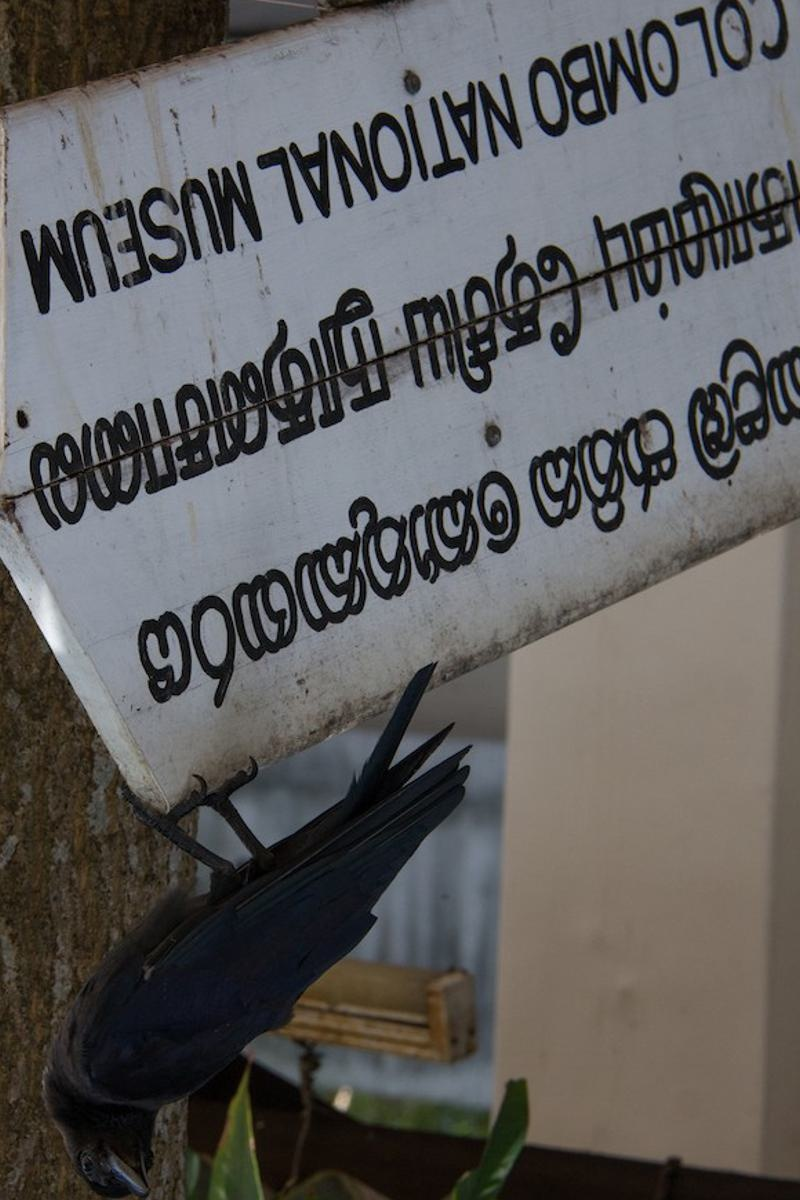crow: (50, 651, 498, 1188)
